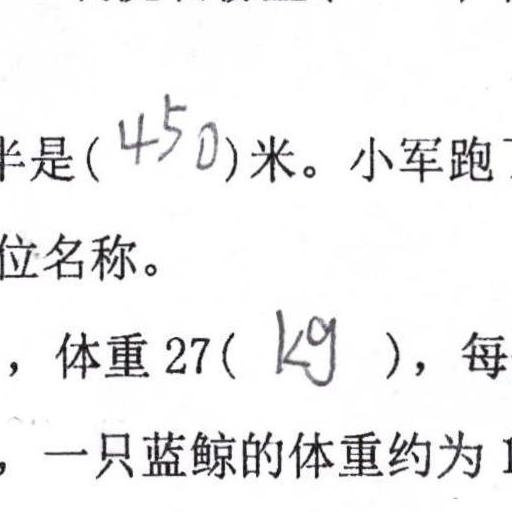ans: (111, 89, 219, 172), (266, 302, 339, 388)
